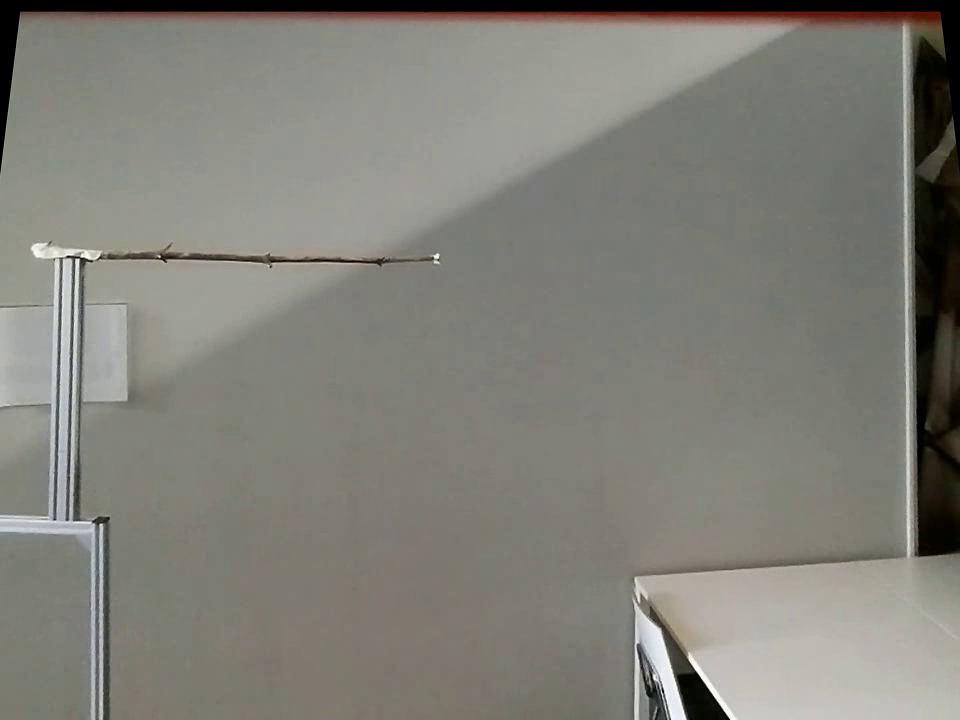aluminum_frame: (44, 260, 83, 519), (85, 515, 113, 718), (0, 509, 96, 540)
branch: (103, 235, 430, 273)
